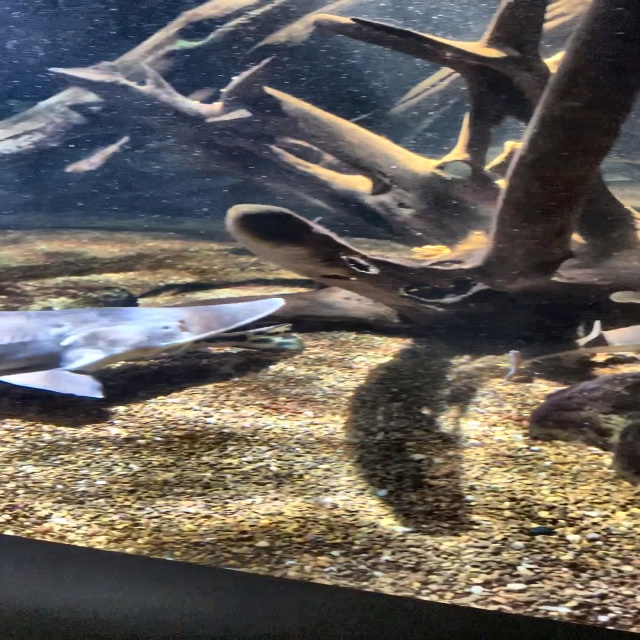shark: (0, 295, 288, 402)
